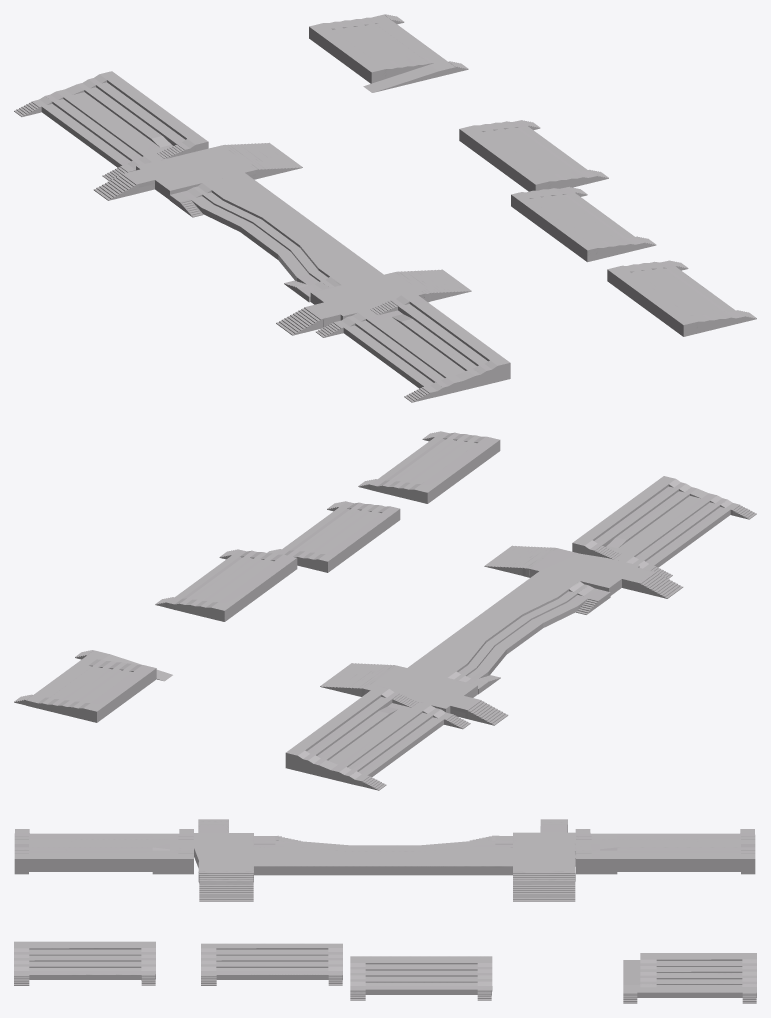
File: AboveFloorModel.fbx
3 renders of one model, top to bottom at view 1: azimuth 30°, elevation 25°; view 2: azimuth 150°, elevation 25°; view 3: azimuth 270°, elevation 25°, orthographic. The views are drawn at different scales.
Visible parts, largest first — view 1: node_id3; view 2: node_id3; view 3: node_id3.
Boxes of the visible parts, left/top/right/bottom form: node_id3: left=14, top=14, right=756, bottom=402; node_id3: left=14, top=431, right=756, bottom=790; node_id3: left=14, top=819, right=756, bottom=1003.
Size of the model in its own units: 0.512 by 0.0196 by 0.876.
1 material, 1 textured.
